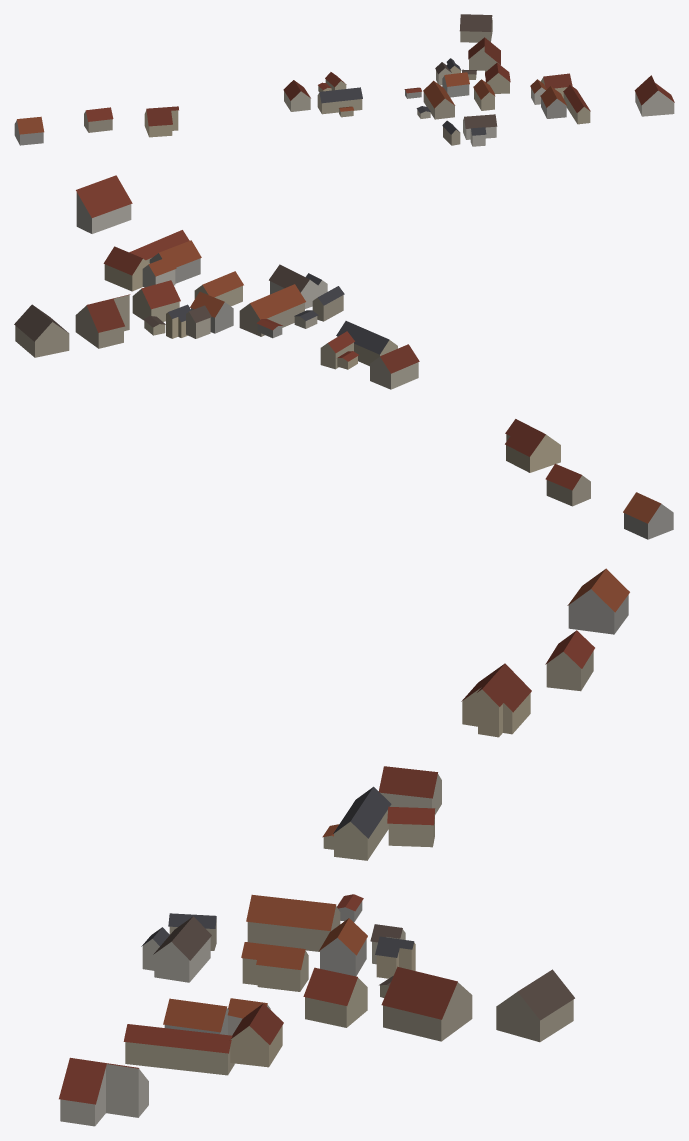
The picture shows the model from 3 angles, top to bottom: view 1: azimuth 30°, elevation 25°; view 2: azimuth 150°, elevation 25°; view 3: azimuth 270°, elevation 25°; orthographic projection. The views are drawn at different scales.
Visible parts, largest first — view 1: buildings; view 2: buildings; view 3: buildings.
Part boxes in pixels (x1,y1,x2,y2): buildings: [14, 14, 674, 146]; buildings: [14, 175, 673, 539]; buildings: [59, 568, 629, 1126].
Bounding box in the file's own units: 287 × 21.07 × 134.
